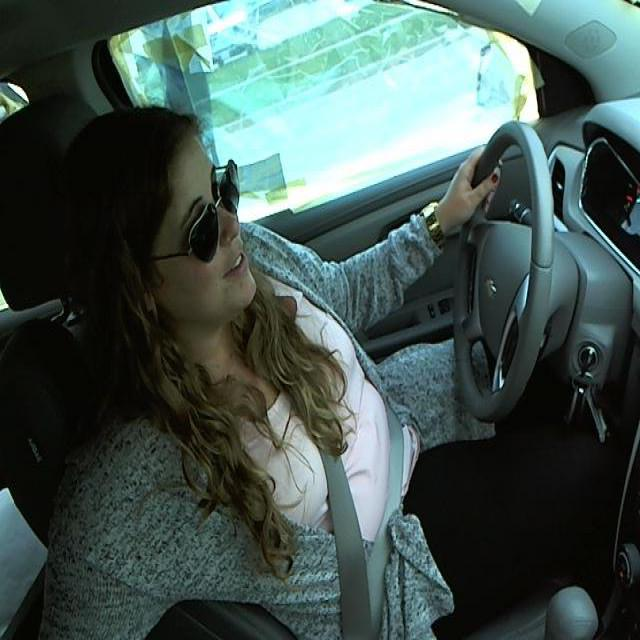seatbelt: (248, 307, 423, 637)
